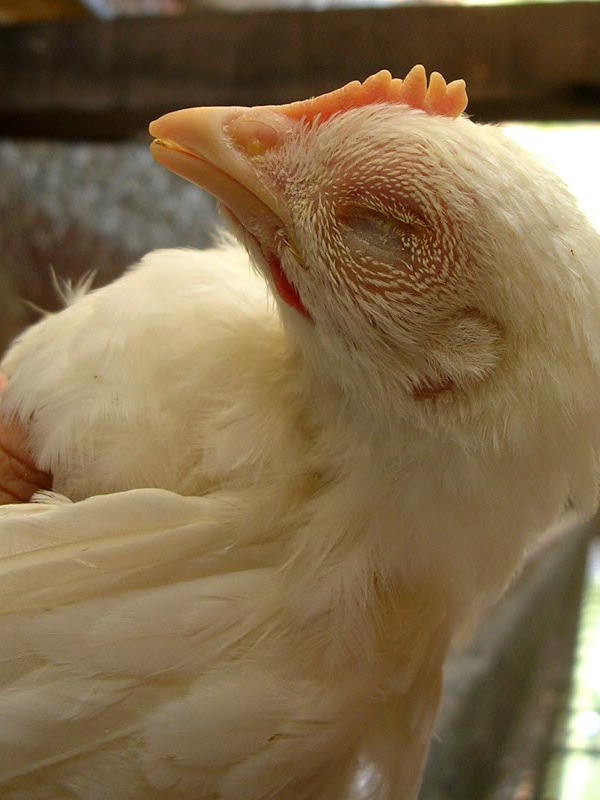Unhealthy: (21, 33, 577, 645)
